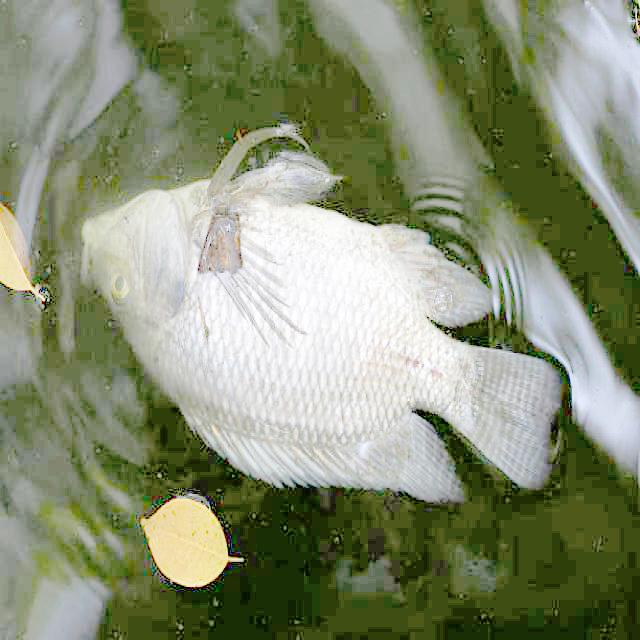Epizootic Ulcerative Syndrome -EUS-: (82, 125, 559, 500)
